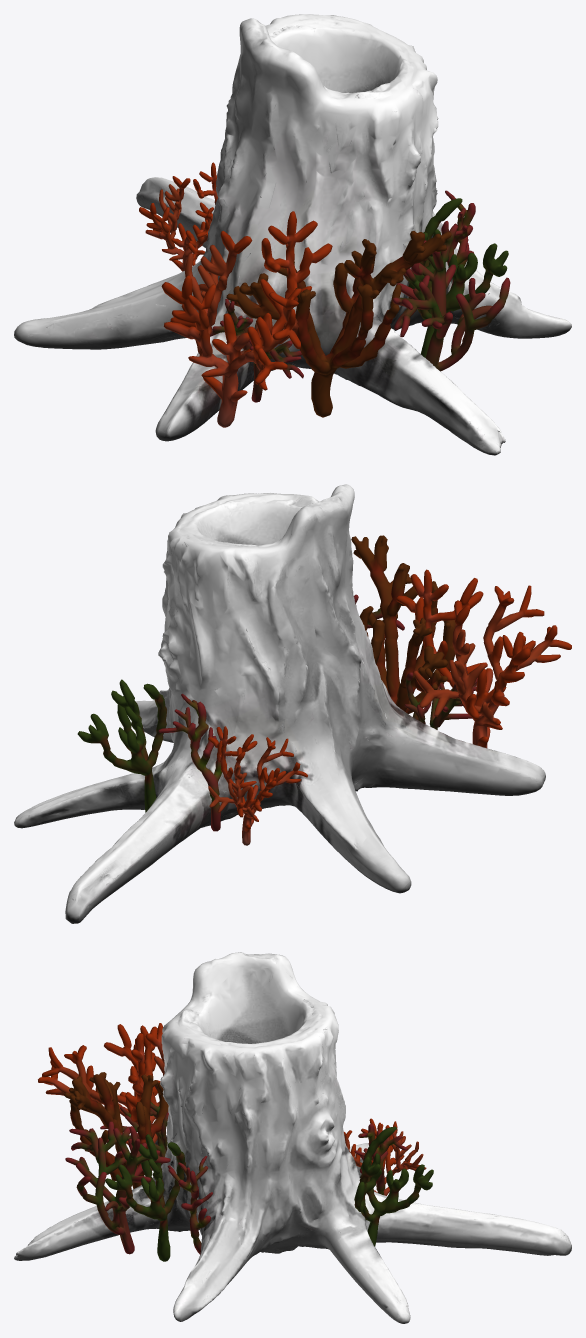
File: soleros.glb
3 views of the same model, one above another, from view 1: azimuth 30°, elevation 25°; view 2: azimuth 150°, elevation 25°; view 3: azimuth 270°, elevation 25° (orthographic). The views are drawn at different scales.
Parts seen in each view (by area): view 1: treeStump_5.001; view 2: treeStump_5.001; view 3: treeStump_5.001.
Boxes of the visible parts, x1,y1,x2,y2 form: treeStump_5.001: (14, 14, 571, 455); treeStump_5.001: (14, 484, 571, 923); treeStump_5.001: (14, 952, 571, 1323).
Size of the model in its own units: 0.788 by 0.6 by 1.09.
Materials: 10 (1 with a texture image).
